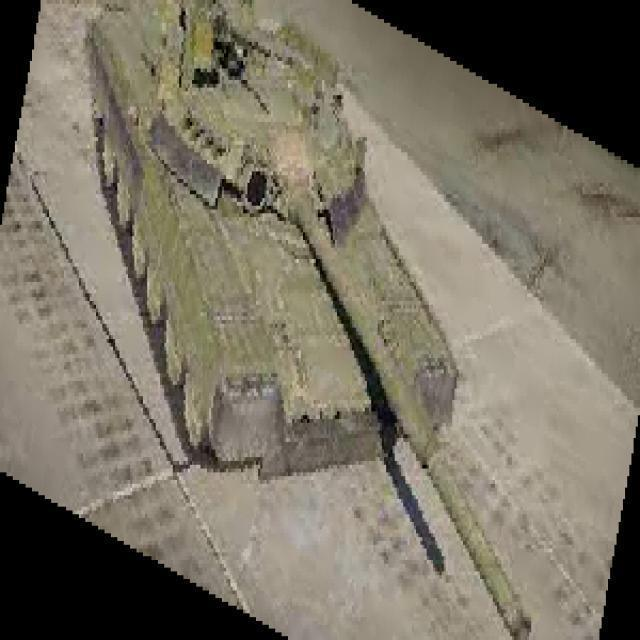Tanks: (86, 2, 534, 638)
